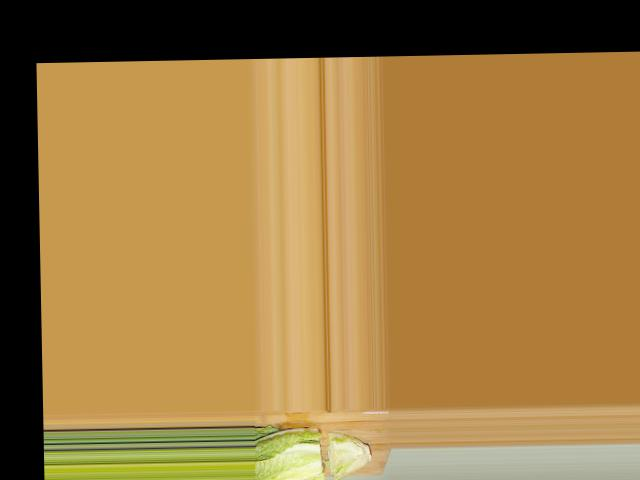lettuce: (255, 419, 370, 480)
